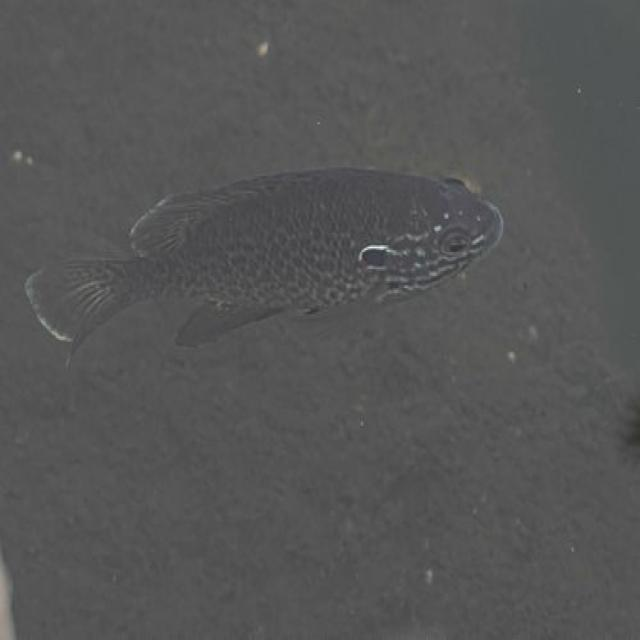Gunes Levregi: (25, 163, 515, 371)
